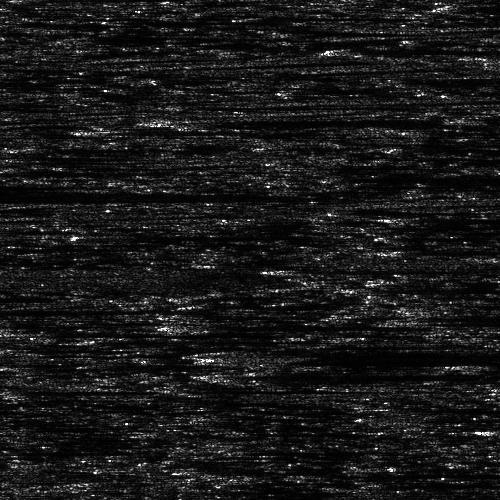object: (208, 35, 489, 62), (188, 345, 303, 366), (128, 115, 233, 124), (79, 126, 152, 135), (231, 266, 314, 273), (154, 319, 217, 328), (464, 252, 500, 265), (388, 245, 429, 256), (448, 426, 500, 433), (344, 286, 397, 291), (490, 52, 500, 65)
shadow: (246, 345, 500, 366), (349, 35, 500, 62), (0, 190, 239, 201), (181, 115, 424, 124), (186, 319, 398, 328), (116, 126, 293, 135), (0, 306, 132, 315), (273, 266, 441, 273), (409, 245, 500, 256), (371, 286, 500, 291), (28, 389, 127, 392)
